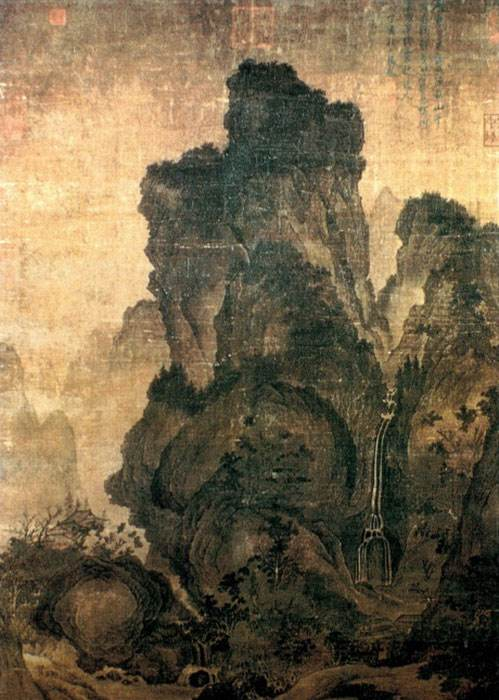mountain: (119, 370, 351, 532), (398, 184, 494, 565), (212, 238, 386, 408), (226, 55, 363, 259), (140, 147, 234, 381), (26, 551, 196, 675)
tree: (193, 513, 347, 663)
waterfall: (353, 410, 403, 591)
